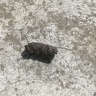Dog: (24, 42, 57, 59)
